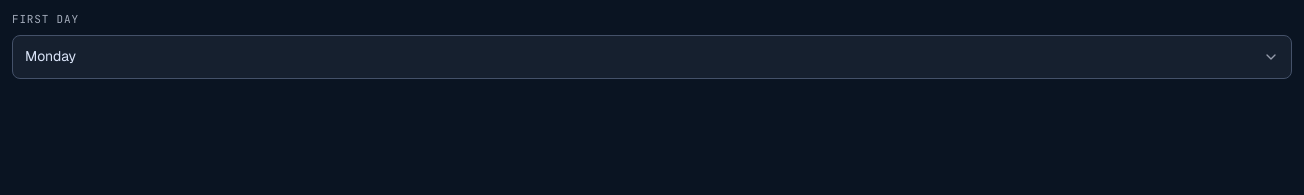
Test case: wrapped Field names the control and controlled choices preserve empty/string/numeric values
The image size is (1304, 195).
Press ArrowDown in the dropdown named "First day", box [12,35,1292,79]
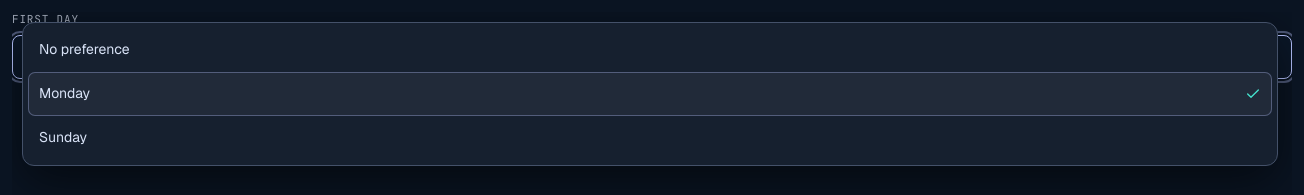
Check: the list is shown
Click the option "Sunday" at [63, 137], box [39,128,87,146]
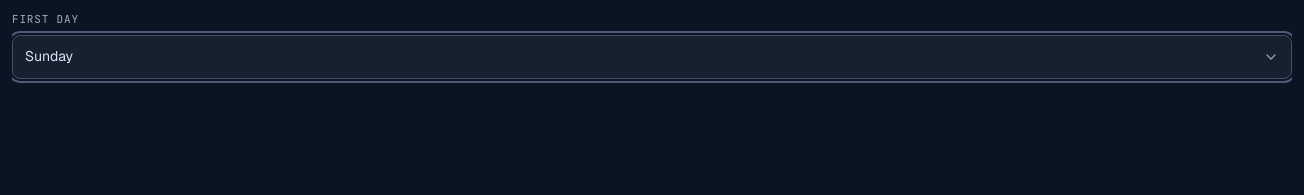
Check: the dropdown named "First day" reads "Sunday"
Press ArrowDown in the dropdown named "First day", box [12,35,1292,79]
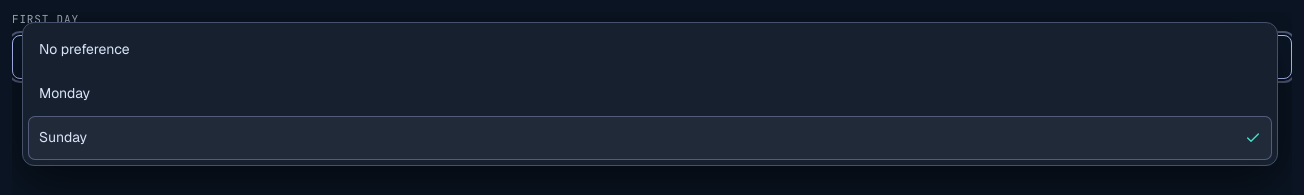
Check: the list is shown
Click the option "No preference" at [84, 49], box [39,40,130,58]
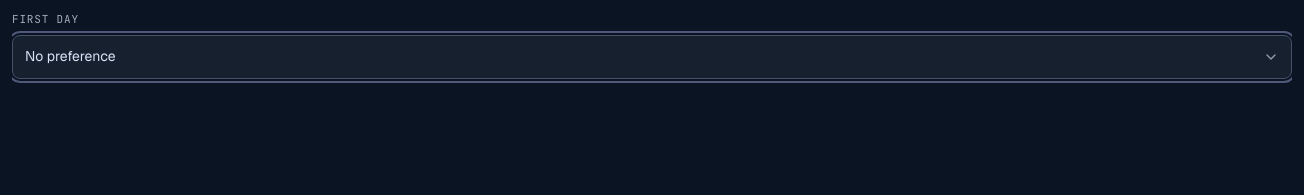
Check: the dropdown named "First day" reads "No preference", box [12,35,1292,79]
